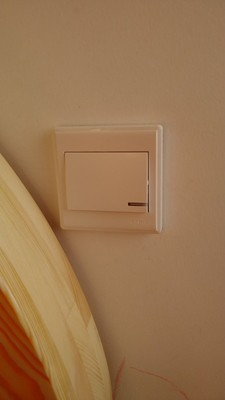switch: (58, 147, 157, 217)
